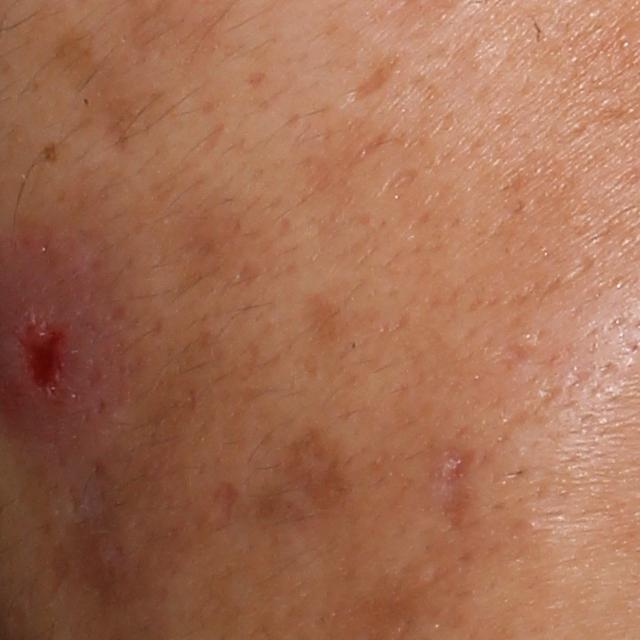atrophic_scar: (429, 440, 493, 532), (341, 62, 393, 107), (380, 167, 419, 193)
